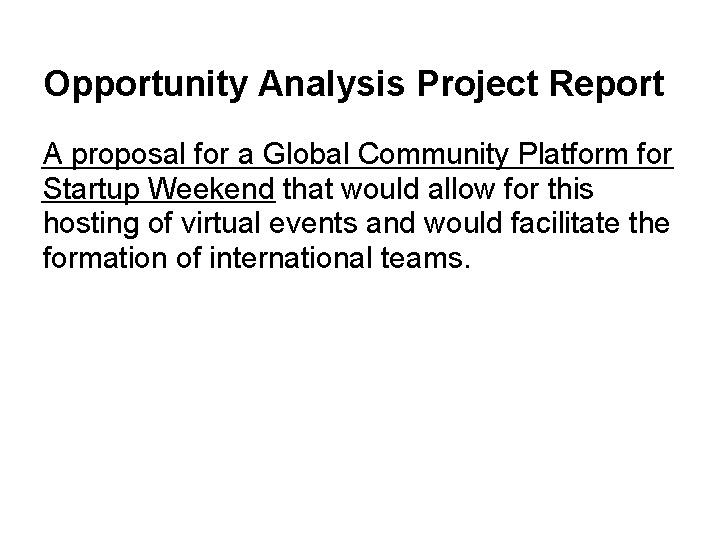paragraph: (28, 135, 705, 296)
title: (29, 46, 684, 121)
